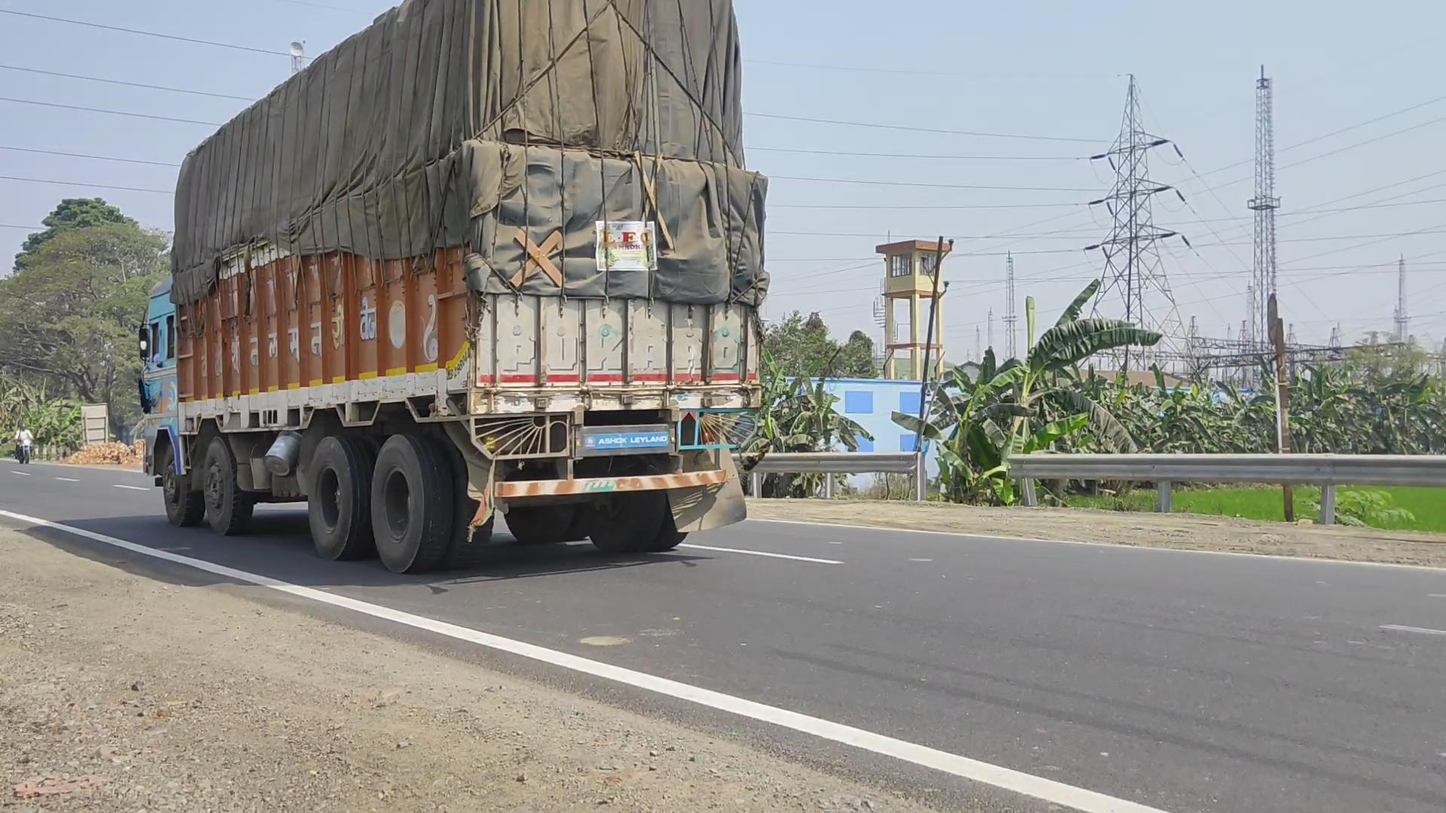bike: (14, 422, 35, 465)
truck: (139, 3, 767, 579)
